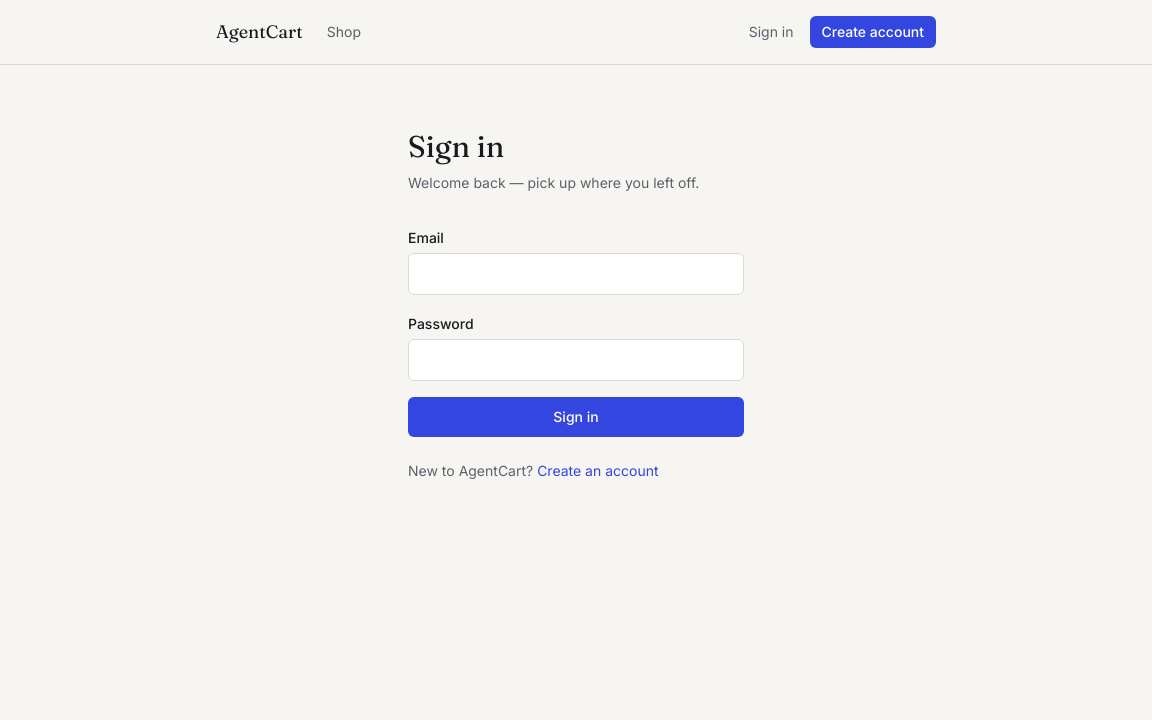
login form › explains a network failure instead of crashing
Type "casey@example.com" into the field labelled "Email" at (576, 274), box left=408, top=253, right=744, bottom=295
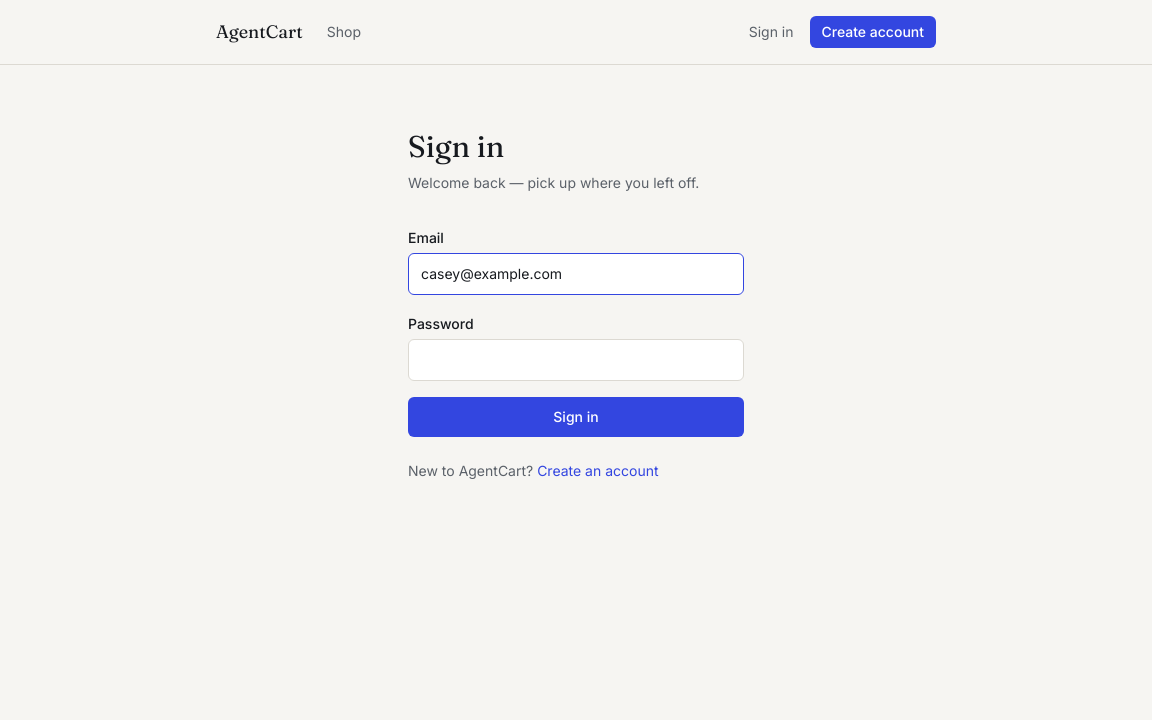
Type "whatever1" into the password field labelled "Password" at (576, 360), box left=408, top=339, right=744, bottom=381
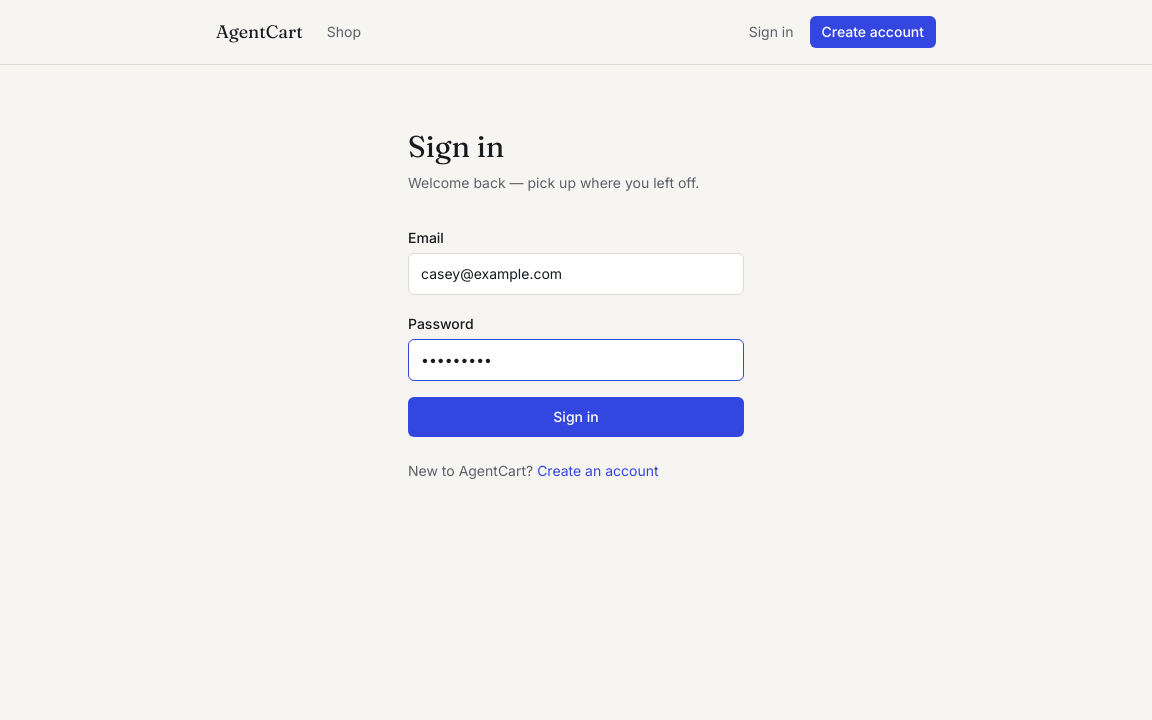
Click the button "Sign in" at (576, 417), box left=408, top=397, right=744, bottom=437
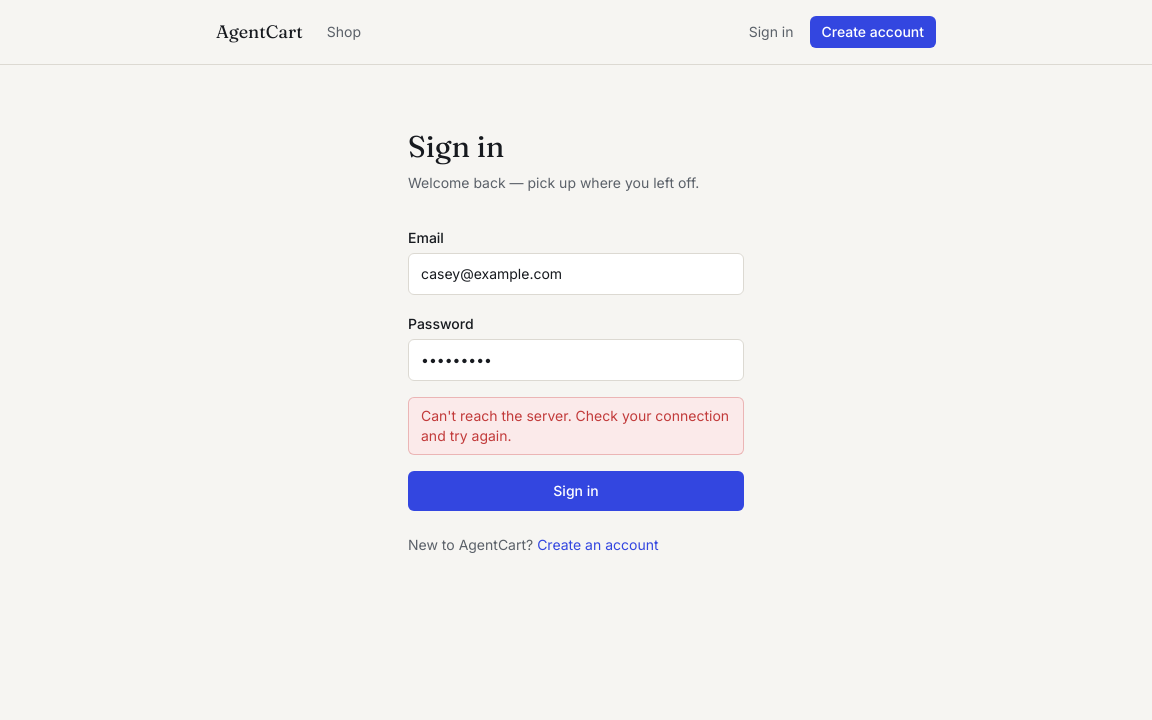
Result: the message shows "Can't reach the server" at left=421, top=407, right=729, bottom=444
